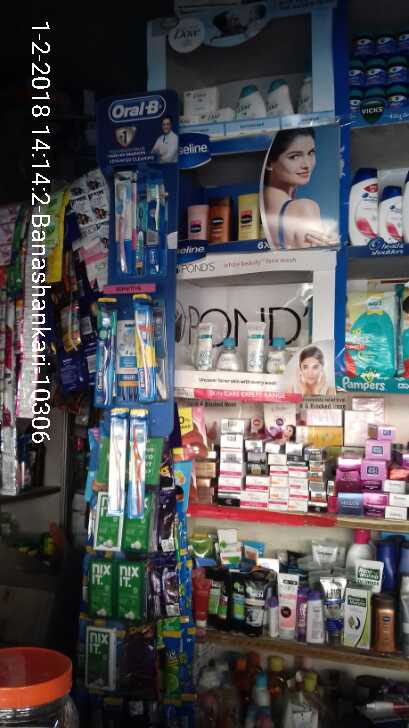beauty: (346, 167, 379, 246), (378, 185, 403, 246)
pharmacy: (346, 291, 398, 381), (131, 291, 159, 401), (144, 169, 169, 278), (106, 404, 130, 512), (112, 168, 134, 274), (129, 407, 147, 516), (96, 297, 113, 403)
